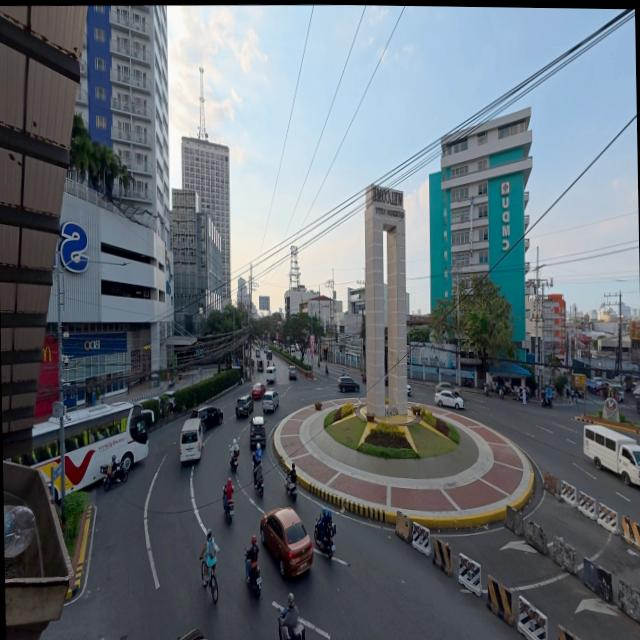bus: (63, 403, 147, 492)
car: (259, 508, 312, 576), (189, 405, 222, 430), (249, 417, 265, 451), (435, 391, 463, 409), (235, 395, 253, 418), (262, 390, 278, 412), (337, 376, 359, 392), (435, 383, 460, 396), (606, 383, 623, 400), (250, 382, 266, 399), (288, 366, 296, 380), (289, 345, 296, 354), (383, 375, 388, 386), (265, 350, 271, 359), (255, 349, 259, 359), (407, 384, 410, 396), (407, 384, 410, 395)
motorcycle: (314, 517, 335, 558), (99, 465, 127, 491), (247, 562, 260, 597), (222, 488, 233, 522), (284, 476, 296, 500), (278, 610, 286, 639), (229, 449, 238, 471), (254, 477, 262, 498), (541, 393, 551, 408), (484, 383, 491, 396), (515, 388, 522, 401), (167, 379, 174, 389), (635, 399, 639, 412), (316, 358, 321, 368), (499, 387, 503, 398), (361, 373, 365, 383), (324, 365, 327, 375)
trucks: (569, 374, 585, 394)
vans: (583, 426, 639, 484), (179, 419, 202, 462), (265, 366, 275, 383)
